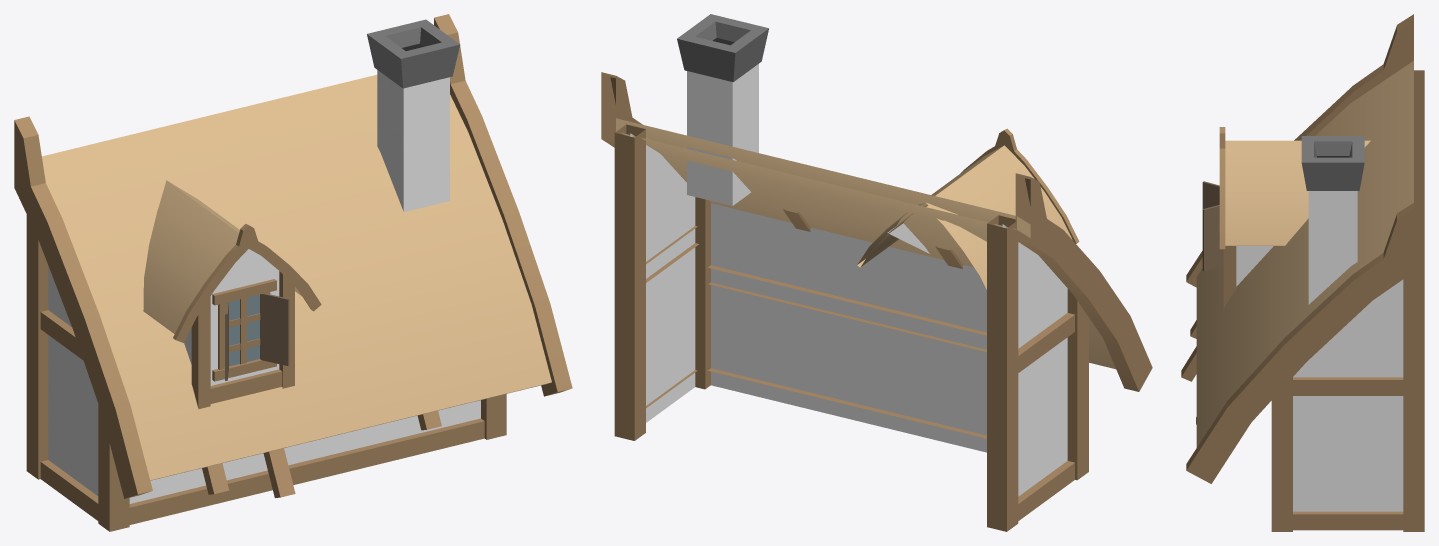
The model's file is House_03.gltf.
3 renders of one model, left to right at view 1: azimuth 30°, elevation 25°; view 2: azimuth 150°, elevation 25°; view 3: azimuth 270°, elevation 25°, orthographic. The views are drawn at different scales.
Visible parts, largest first — view 1: pCube3656; view 2: pCube3656; view 3: pCube3656.
Part boxes in pixels (bbox=[...]): pCube3656: bbox=[14, 14, 572, 531]; pCube3656: bbox=[601, 14, 1152, 531]; pCube3656: bbox=[1181, 14, 1424, 531].
Bounding box in the file's own units: 9.59 × 8.14 × 5.05.
